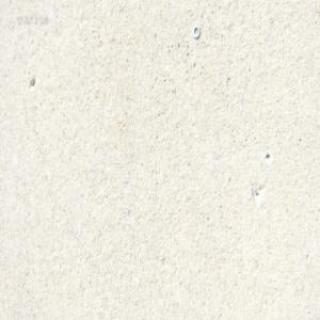Washertrack_idkeyframe: (192, 22, 200, 37)
